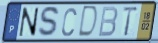B: (97, 5, 119, 38)
C: (61, 6, 78, 38)
D: (76, 4, 99, 39)
N: (18, 7, 40, 38)
S: (37, 5, 62, 39)
T: (121, 6, 140, 38)
